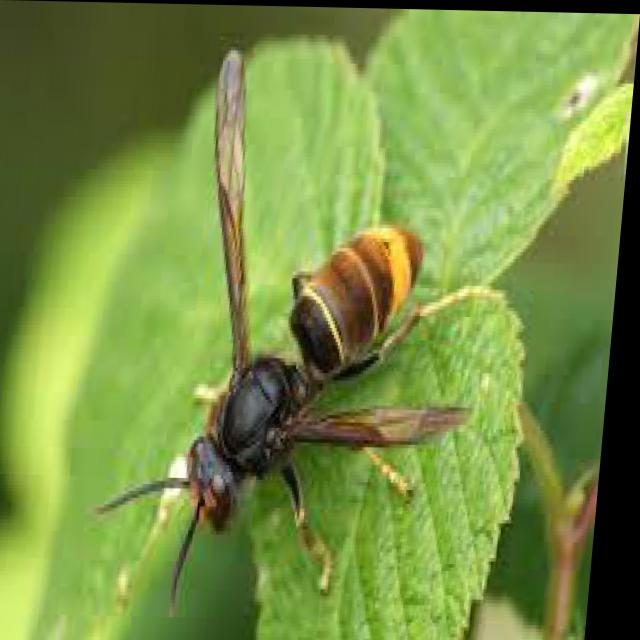Vespa Velutina: (92, 39, 532, 632)
